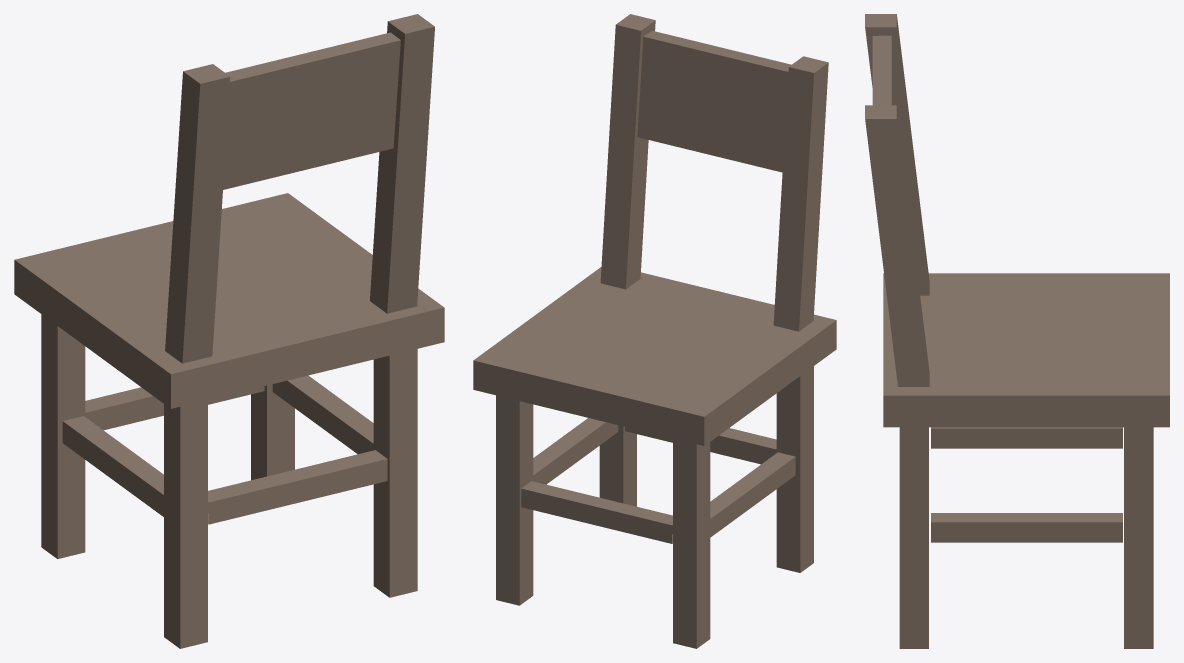
The model's file is Chair.fbx.
3 renders of one model, left to right at view 1: azimuth 30°, elevation 25°; view 2: azimuth 150°, elevation 25°; view 3: azimuth 270°, elevation 25°, orthographic. The views are drawn at different scales.
Visible parts, largest first — view 1: Chair; view 2: Chair; view 3: Chair.
Boxes of the visible parts, bbox=[...] form: Chair: bbox=[14, 14, 444, 648]; Chair: bbox=[473, 14, 836, 648]; Chair: bbox=[865, 14, 1169, 648].
Size of the model in its own units: 52.67 by 106 by 55.53.
